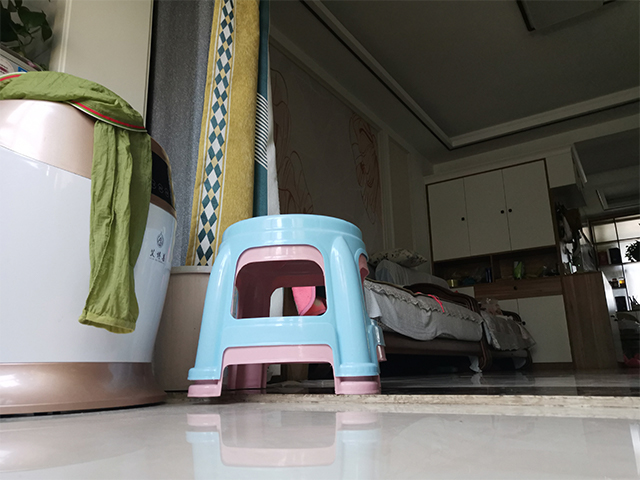cabinet: (525, 272, 613, 373)
sofa: (361, 256, 539, 376)
stool: (182, 212, 389, 399)
